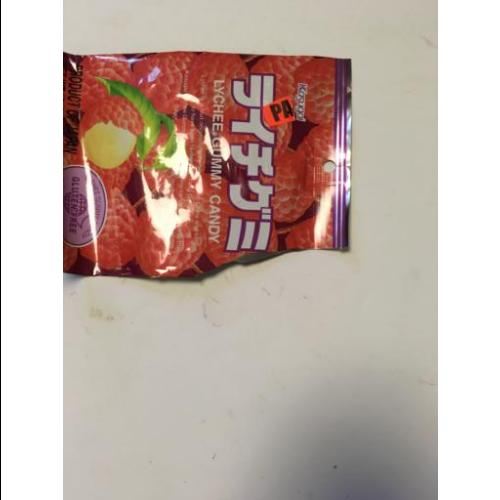plastic: (63, 52, 354, 279)
